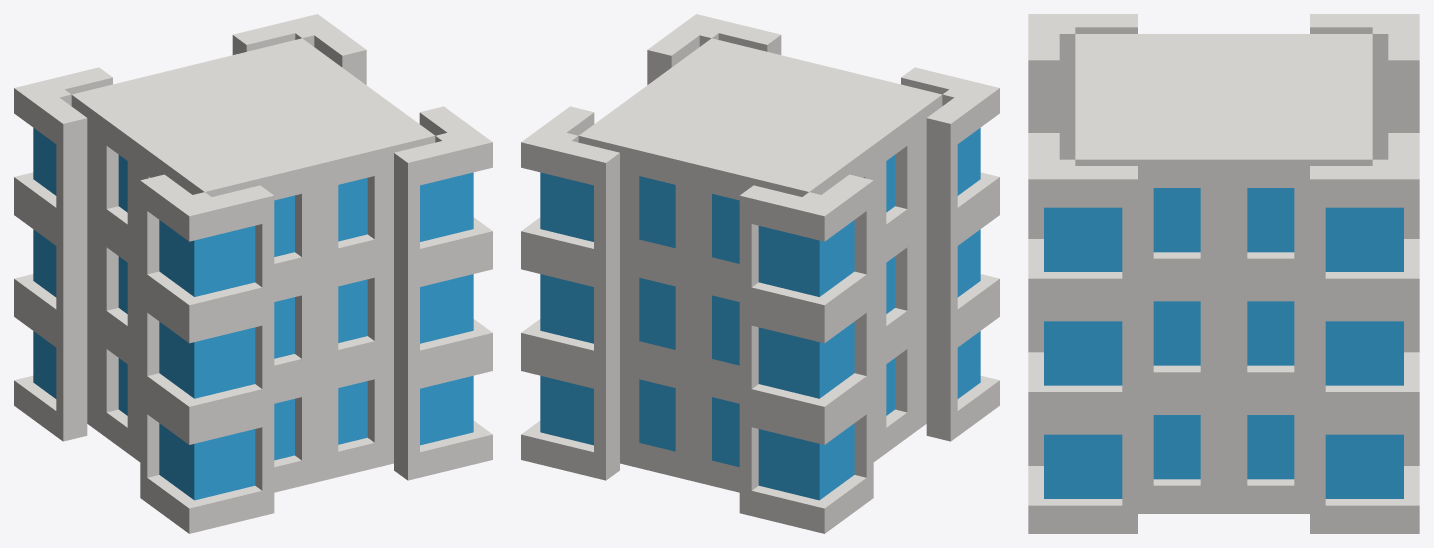
File: TwentyeightModel.fbx
3 views of the same model, side by side, from view 1: azimuth 30°, elevation 25°; view 2: azimuth 150°, elevation 25°; view 3: azimuth 270°, elevation 25° (orthographic). The views are drawn at different scales.
Visible parts, largest first — view 1: Box; view 2: Box; view 3: Box.
Part boxes in pixels (x1,y1,x2,y2): Box: (14, 14, 492, 533); Box: (521, 14, 999, 533); Box: (1028, 14, 1419, 533).
Bounding box in the file's own units: 25 × 25 × 25.
1 material, 1 textured.
